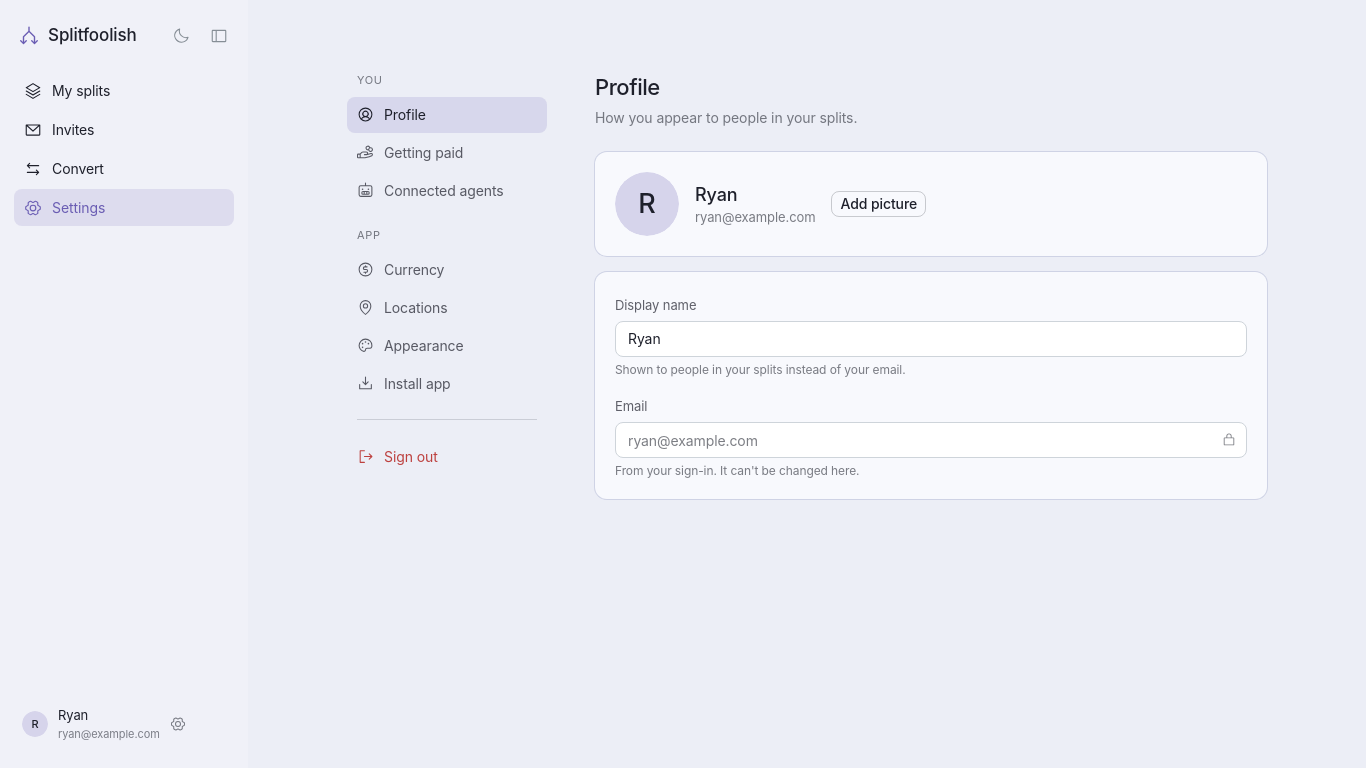
Scenario: Settings › puts the name back and says so when it isn't saved
Replace the text in the field labelled "Display name" with "Nope" at (931, 339), box [615, 321, 1247, 357]
Then press Enter
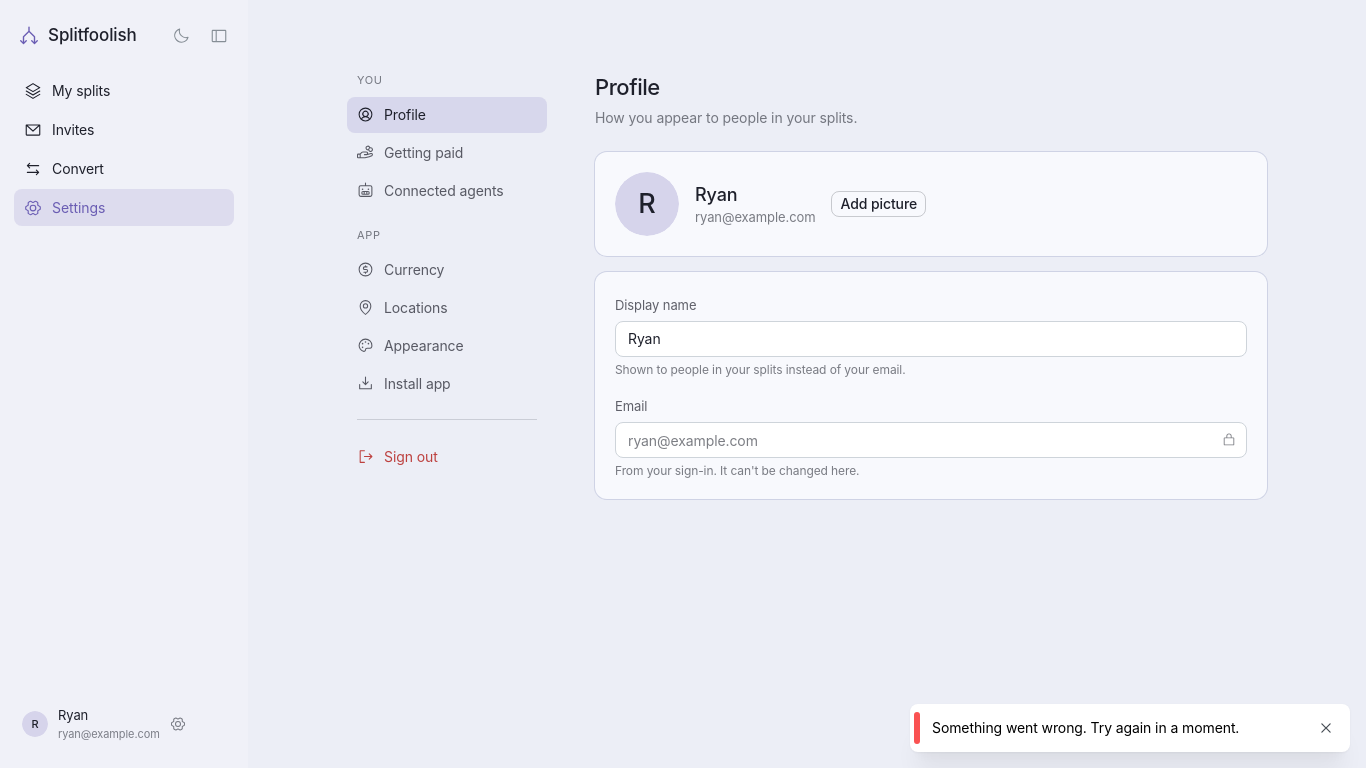
expect the 2nd text "Ryan" is shown: met, box [58, 707, 88, 723]
expect the text "Something went wrong. Try again in a moment." is shown: met, box [932, 719, 1239, 736]
